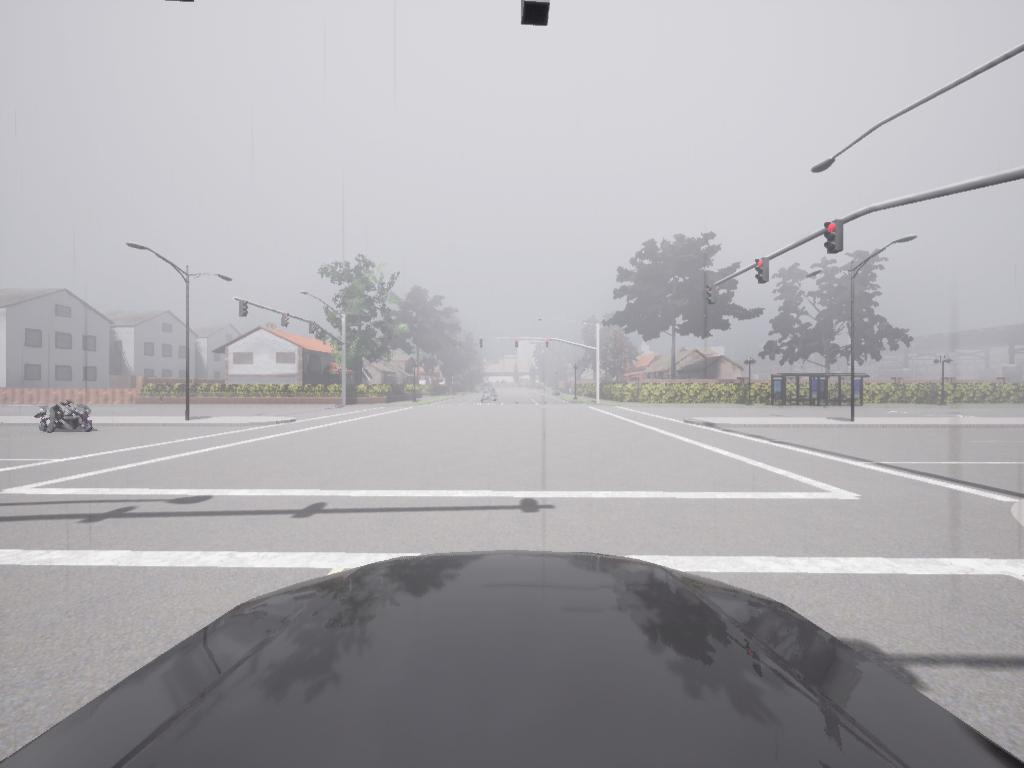traffic_light: (523, 3, 552, 28), (825, 222, 842, 255), (756, 260, 770, 285), (706, 284, 718, 307), (239, 300, 251, 317), (281, 311, 291, 331), (311, 321, 319, 336), (480, 339, 485, 349), (515, 340, 519, 349), (546, 340, 550, 349)
